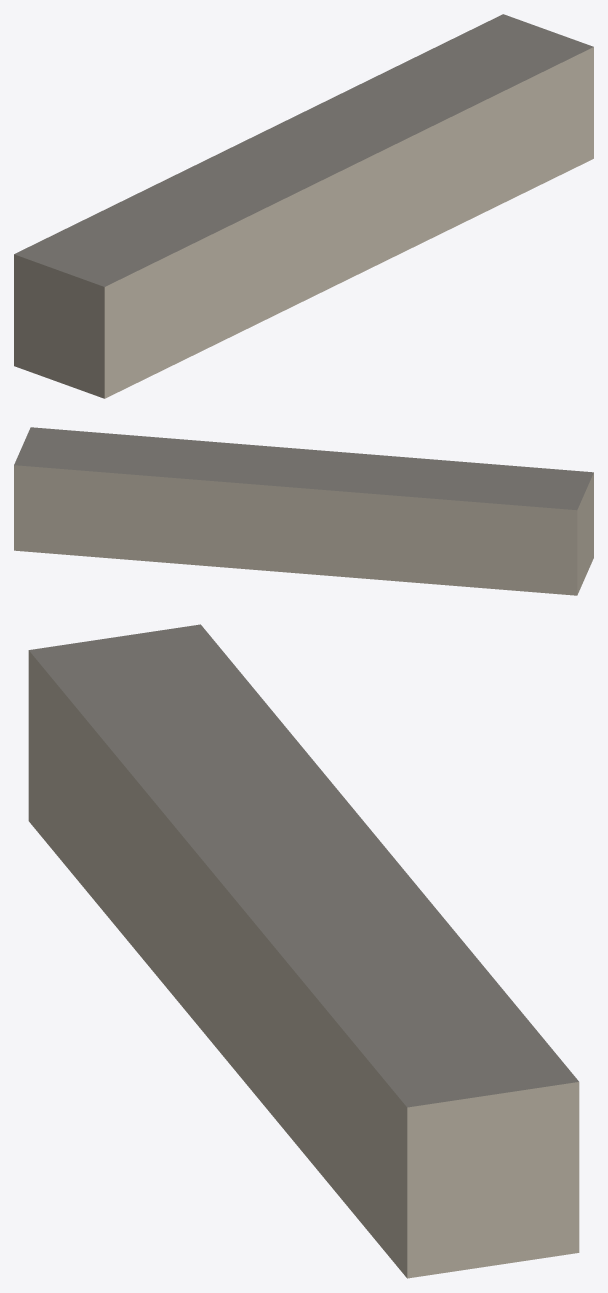
3 views of the same model, one above another, from view 1: azimuth 30°, elevation 25°; view 2: azimuth 150°, elevation 25°; view 3: azimuth 270°, elevation 25° (orthographic). The views are drawn at different scales.
Visible parts, largest first — view 1: HP-w859488633; view 2: HP-w859488633; view 3: HP-w859488633.
Boxes of the visible parts, x1,y1,x2,y2 form: HP-w859488633: (14, 14, 593, 398); HP-w859488633: (14, 427, 593, 595); HP-w859488633: (28, 624, 579, 1278).
Size of the model in its own units: 109 by 18 by 52.53.
